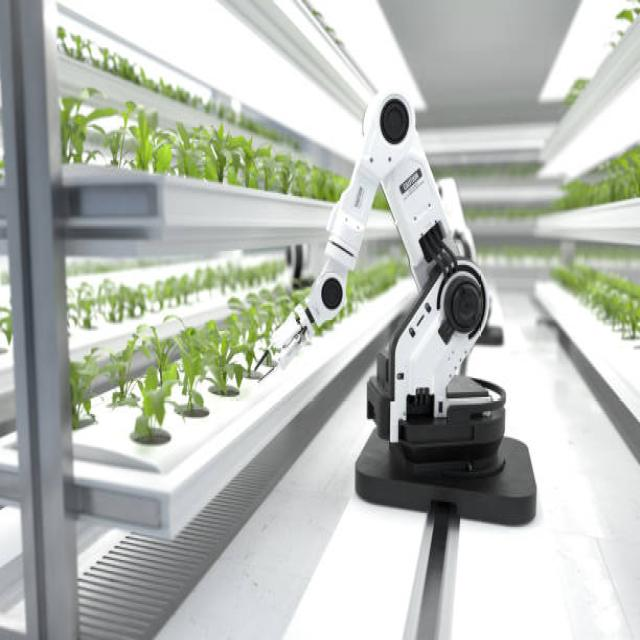Robotic-arm: (262, 78, 514, 516)
